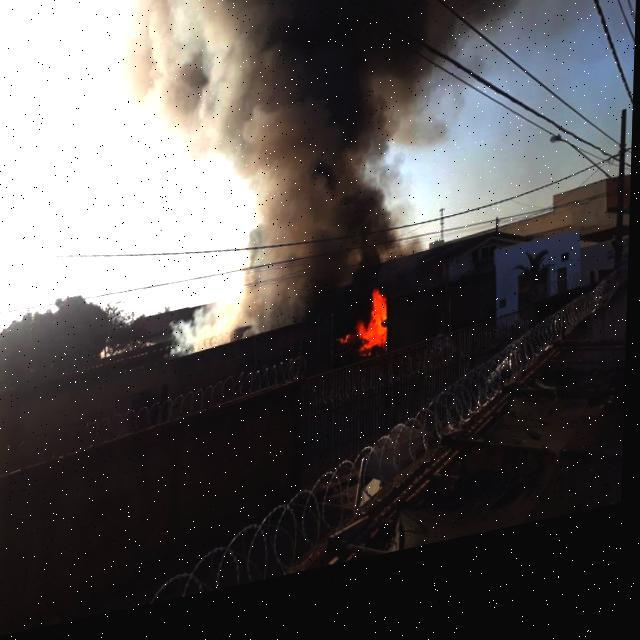Fire: (366, 306, 389, 372)
